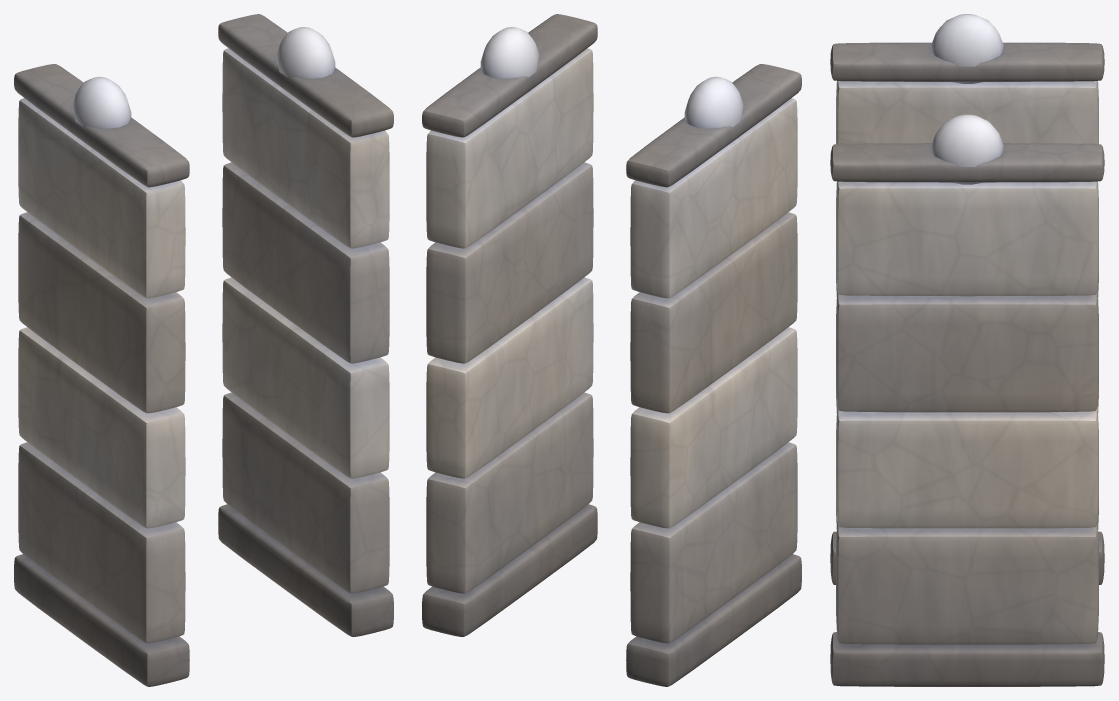
File: CC_G04_TideGateGuide.fbx
The picture shows the model from 3 angles, left to right: view 1: azimuth 30°, elevation 25°; view 2: azimuth 150°, elevation 25°; view 3: azimuth 270°, elevation 25°; orthographic projection.
Visible parts, largest first — view 1: Guide_L, Guide_R; view 2: Guide_L, Guide_R; view 3: Guide_R, Guide_L.
Part boxes in pixels (x1,y1,x2,y2): Guide_L: (14, 64, 189, 686); Guide_R: (218, 14, 393, 636); Guide_L: (626, 64, 801, 686); Guide_R: (422, 14, 597, 636); Guide_R: (830, 114, 1104, 686); Guide_L: (830, 14, 1104, 584).
Bounding box in the file's own units: 1.6 × 3.39 × 1.5.
